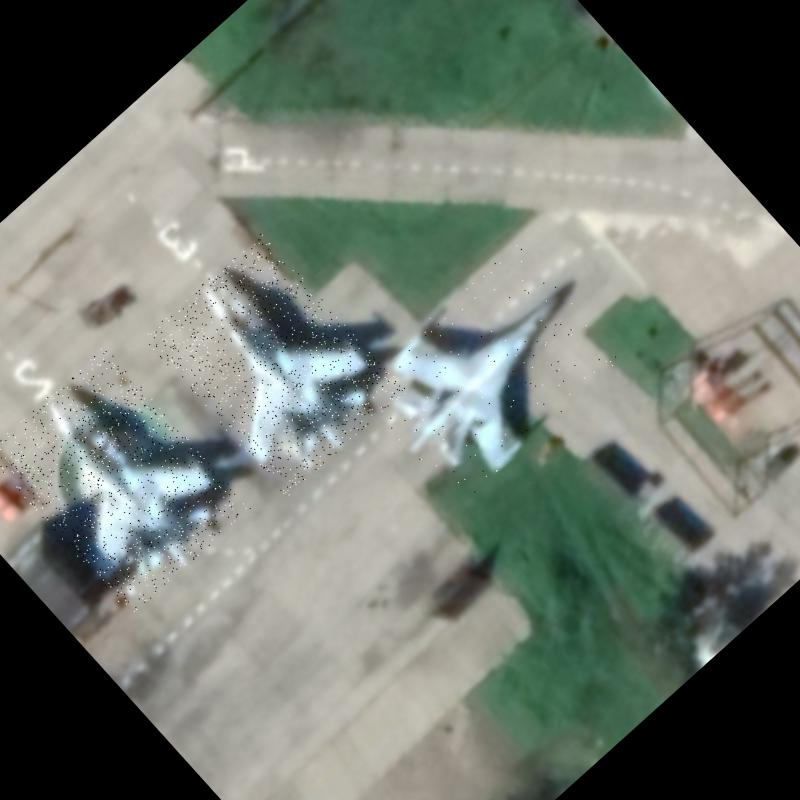A1: (350, 239, 623, 508), (142, 230, 404, 496), (0, 345, 250, 615)
